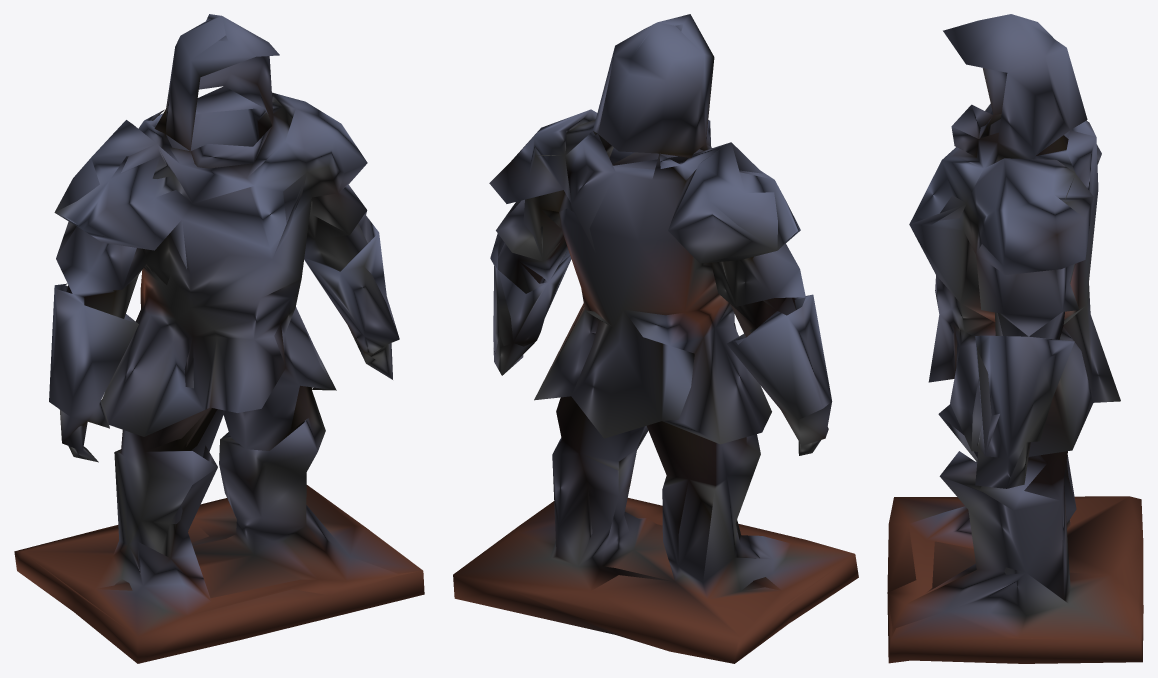
File: gen3d-suit-of-armor-lod1.glb
3 views of the same model, side by side, from view 1: azimuth 30°, elevation 25°; view 2: azimuth 150°, elevation 25°; view 3: azimuth 270°, elevation 25° (orthographic). The views are drawn at different scales.
Parts seen in each view (by area): view 1: part_0; view 2: part_0; view 3: part_0.
Part boxes in pixels (x1,y1,x2,y2): part_0: (14,14,424,663); part_0: (453,14,858,663); part_0: (887,14,1143,663).
Bounding box in the file's own units: 0.6197 × 1 × 0.4003.
